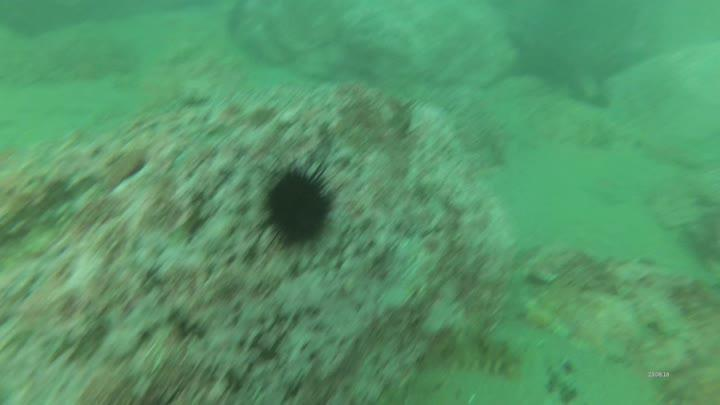urchin: (251, 172, 335, 250)
